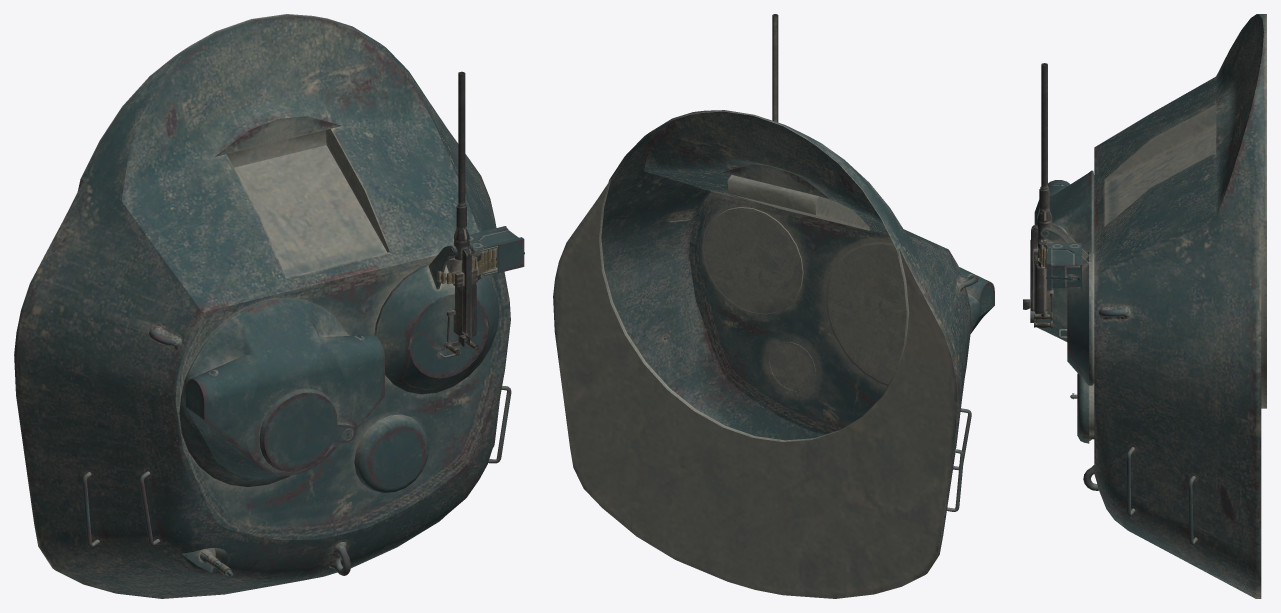
The model's file is Turret_02.glb.
3 renders of one model, left to right at view 1: azimuth 30°, elevation 25°; view 2: azimuth 150°, elevation 25°; view 3: azimuth 270°, elevation 25°, orthographic. The views are drawn at different scales.
Visible parts, largest first — view 1: set_0_group_0; view 2: set_0_group_0; view 3: set_0_group_0.
Part boxes in pixels (box(x1,y1,x2,y2)): set_0_group_0: box(14, 14, 524, 598); set_0_group_0: box(553, 14, 994, 598); set_0_group_0: box(1023, 14, 1266, 598).
Bounding box in the file's own units: 3.28 × 3.76 × 1.54.
Materials: 1 (1 with a texture image).
